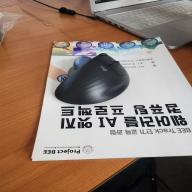mouse: (55, 52, 130, 104)
